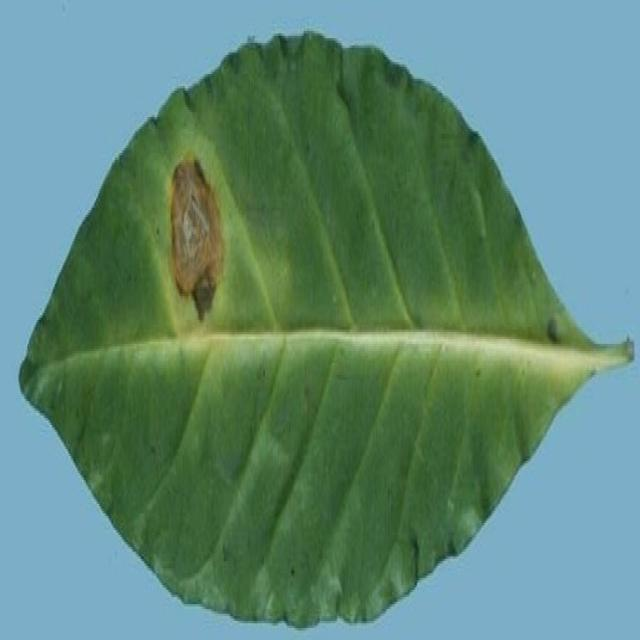Enfermedad-Mancha-de-hierro: (18, 31, 636, 633)
